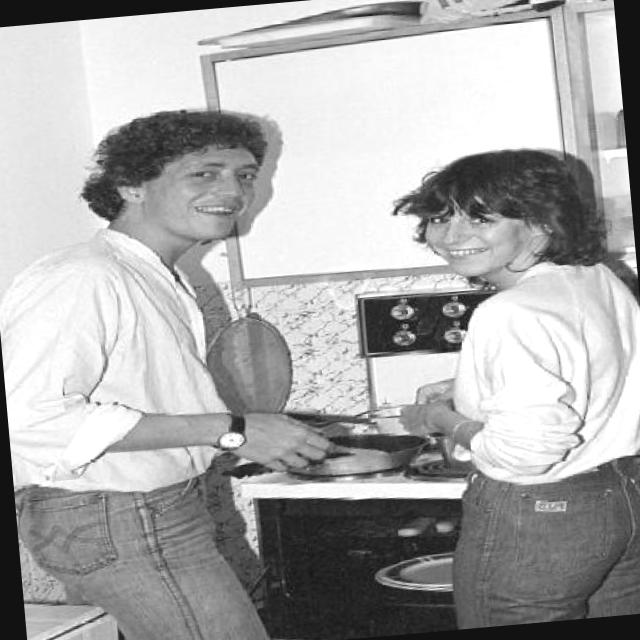Person: (0, 103, 359, 640), (374, 138, 640, 632)
